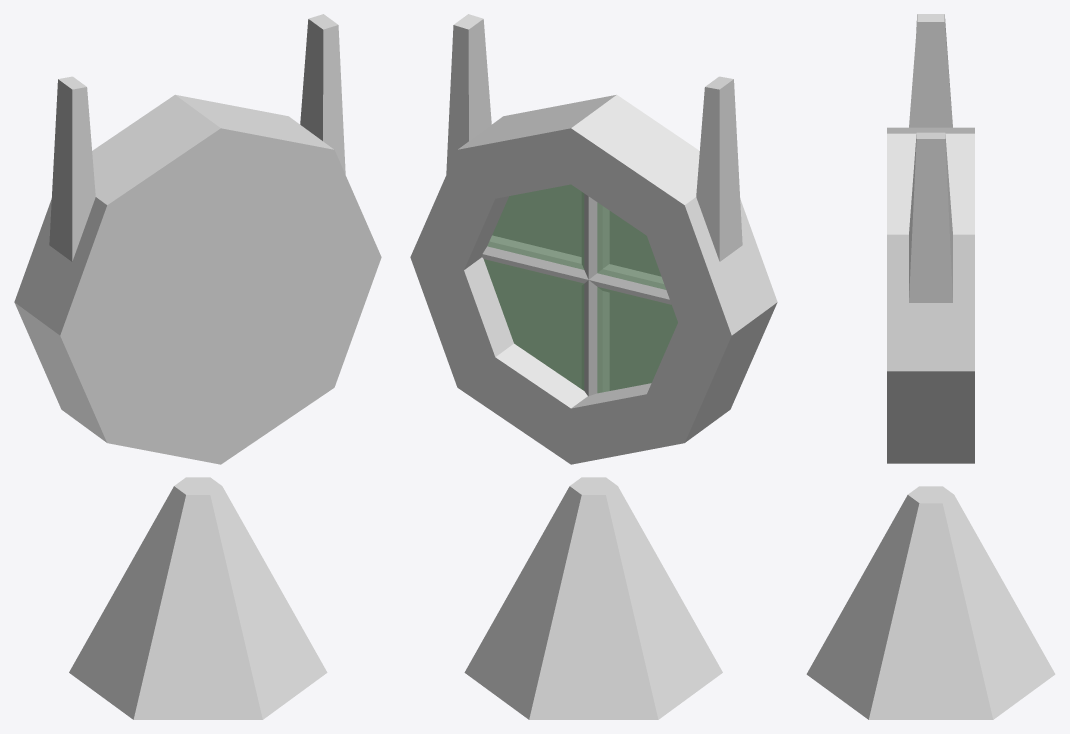
Rendered from Plyer_radar.fbx.
The picture shows the model from 3 angles, left to right: view 1: azimuth 30°, elevation 25°; view 2: azimuth 150°, elevation 25°; view 3: azimuth 270°, elevation 25°; orthographic projection. The views are drawn at different scales.
Visible parts, largest first — view 1: Cylinder, Cylinder.006; view 2: Cylinder, Cylinder.006; view 3: Cylinder.006, Cylinder.
Boxes of the visible parts, <box> form: Cylinder: <box>14,14,381,464</box>; Cylinder.006: <box>69,477,327,719</box>; Cylinder: <box>410,14,777,464</box>; Cylinder.006: <box>464,477,722,719</box>; Cylinder.006: <box>806,486,1055,719</box>; Cylinder: <box>887,14,974,463</box>.
Size of the model in its own units: 79.85 by 147 by 55.64.
